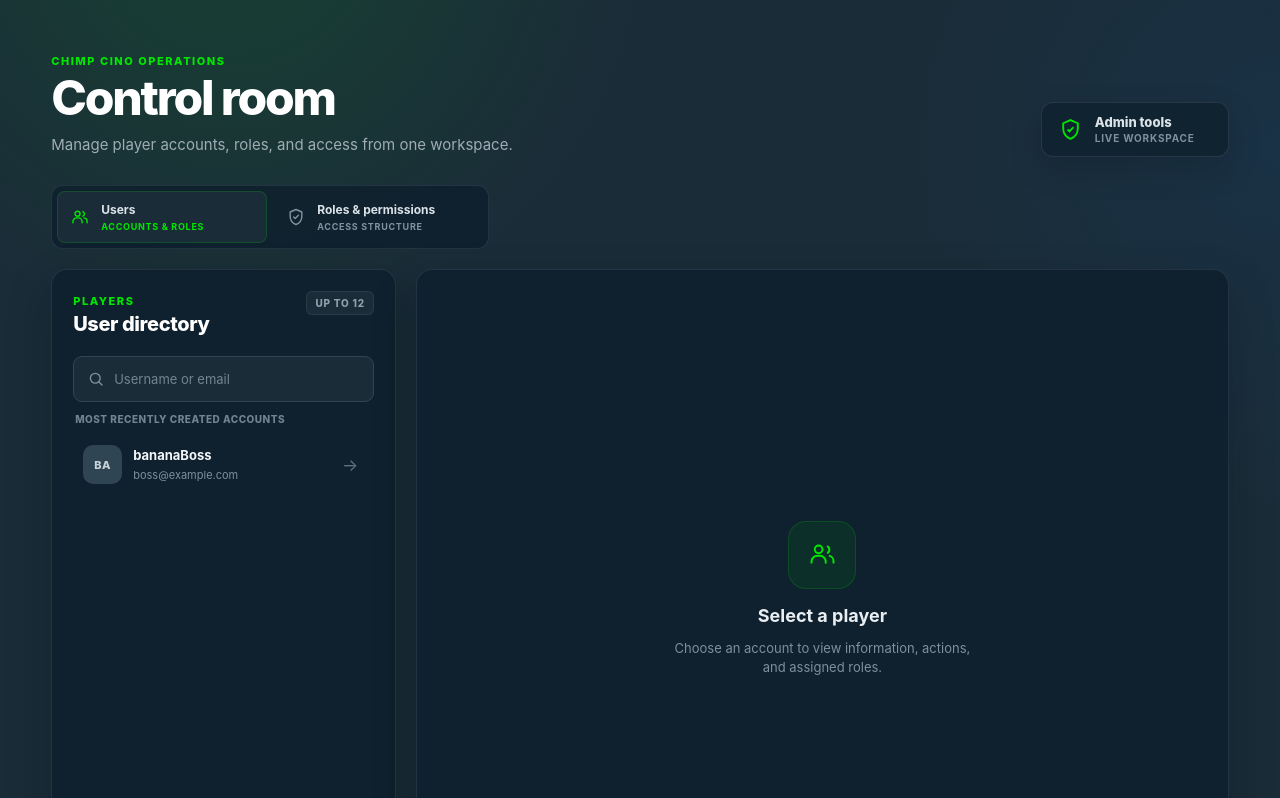
Test: AdminPage › assigns roles to users instead of assigning permissions directly
Click the button "BA bananaBoss boss@example.com →".
click(103, 465)  # box [73,434,374,496]
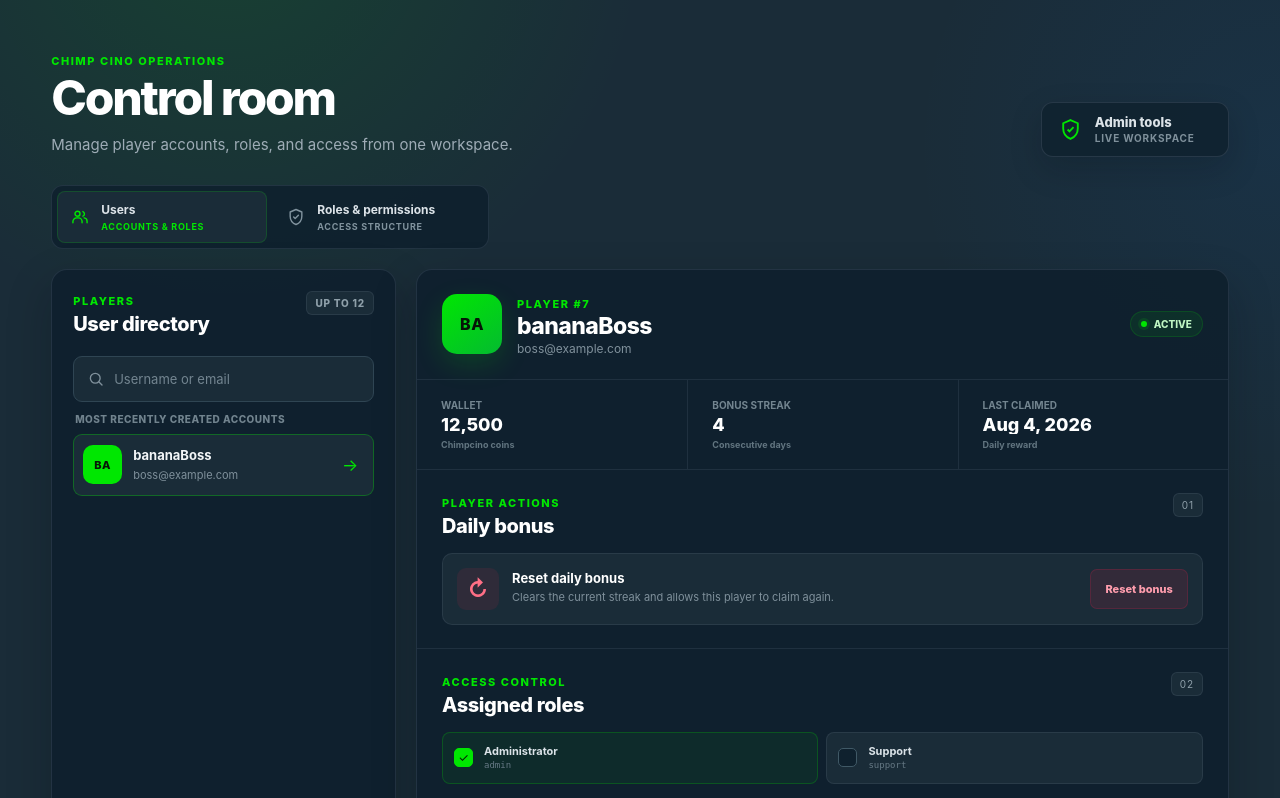
Expected: the heading "Assigned roles" is shown, [442,695,584,715]
Click the checkbox labelled "✓ Support support".
click(890, 751)  # box [826,732,1203,784]
(page scrolled)
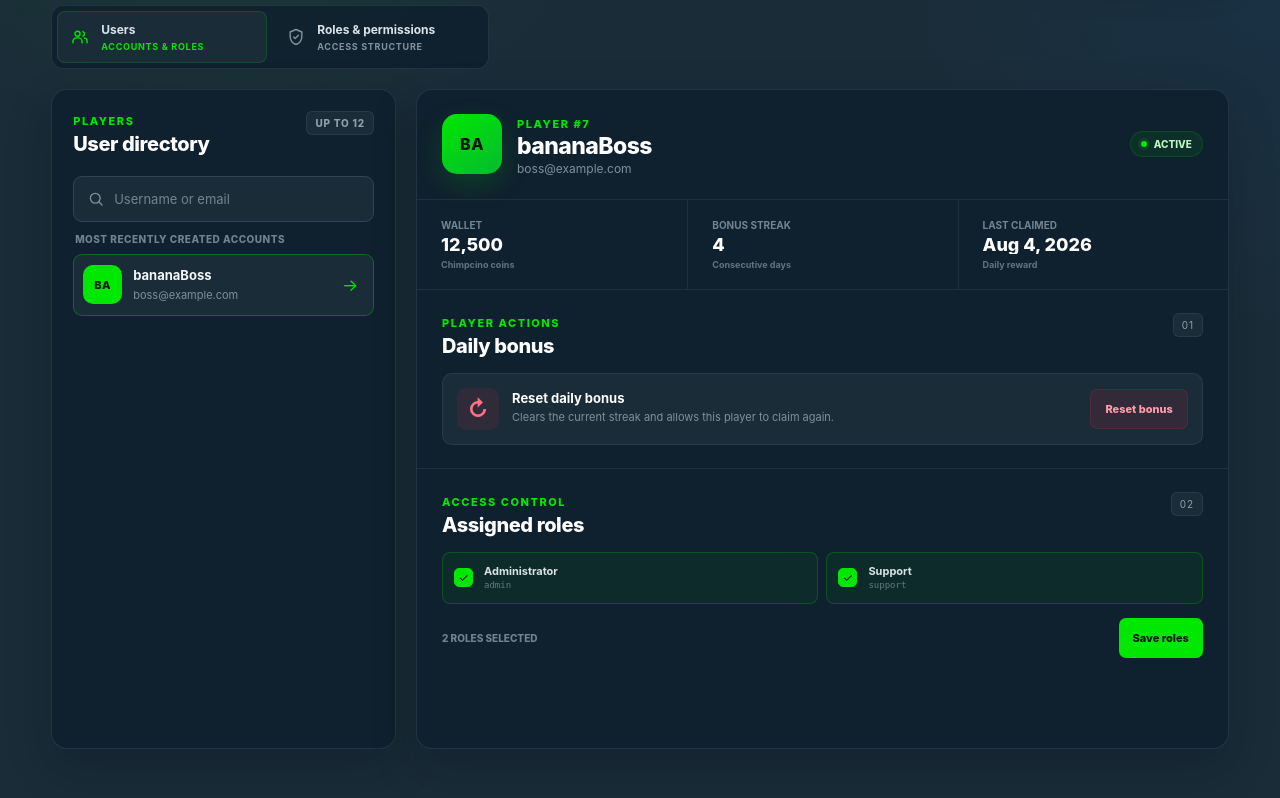
Click the button "Save roles".
click(1161, 638)  # box [1118,618,1203,658]
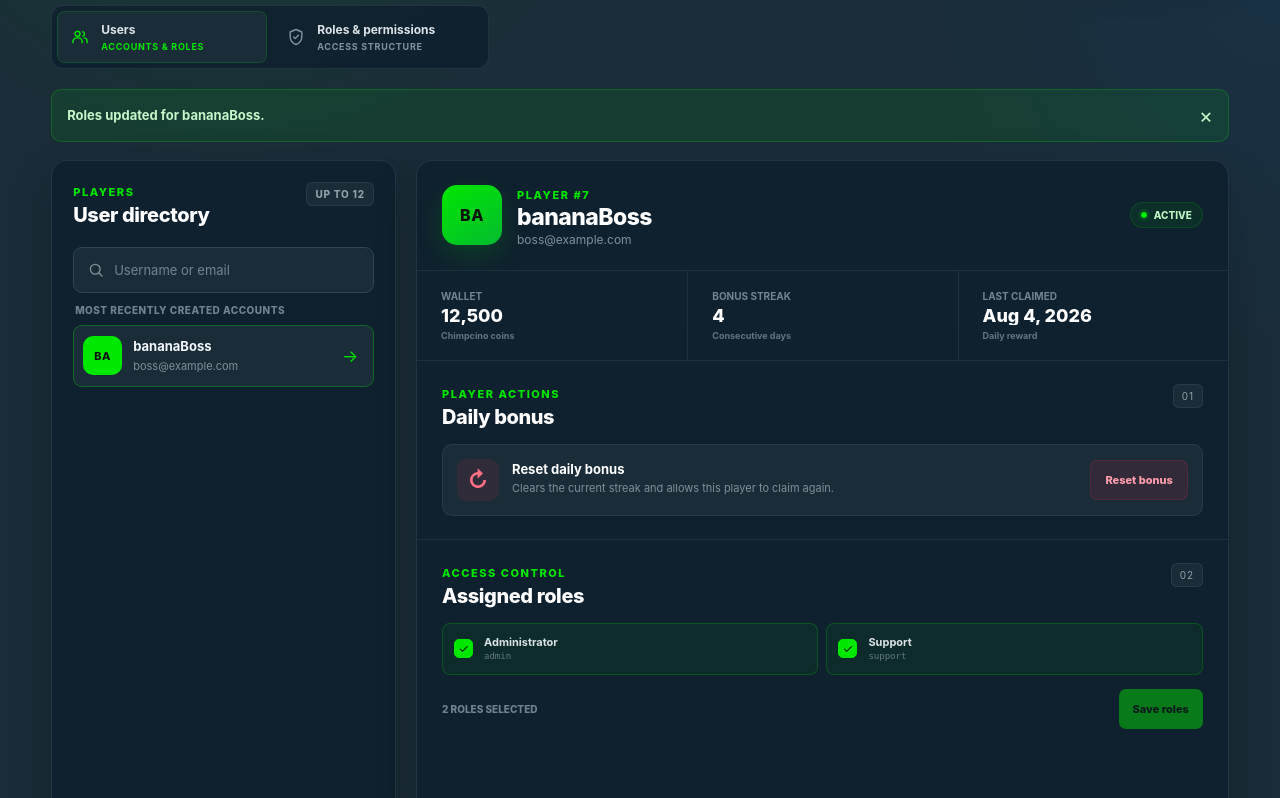
Now the text "Roles updated for bananaBoss." is shown, box [67,109,265,122]
